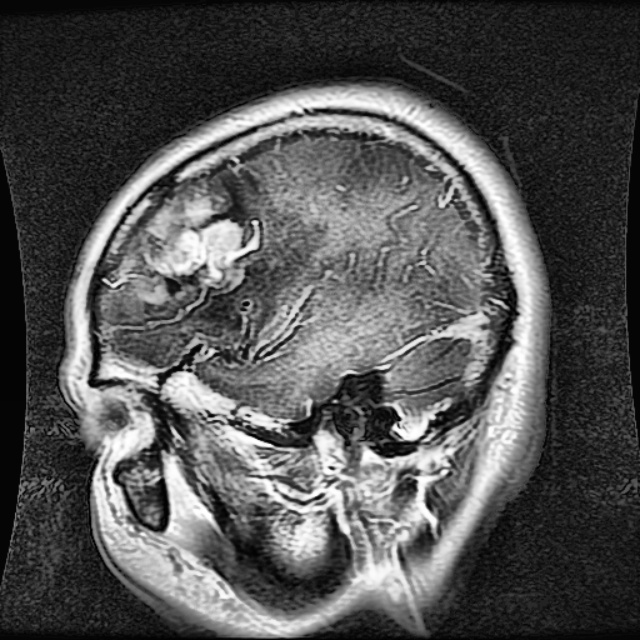Meningioma: (124, 188, 248, 304)
